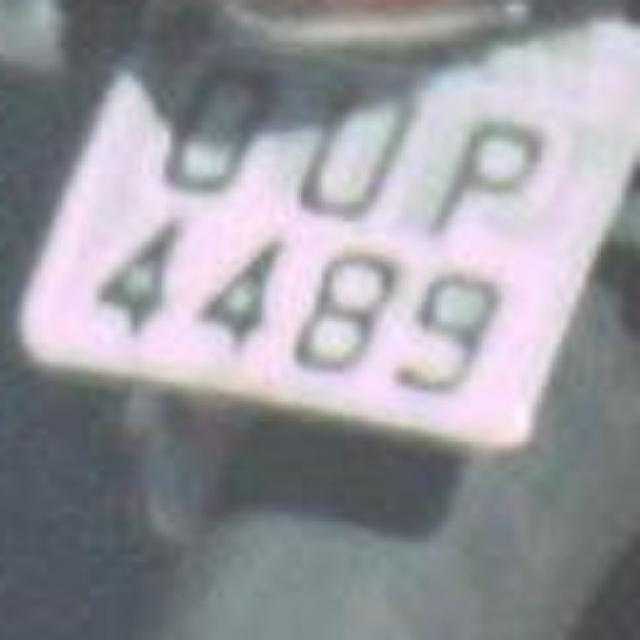4: (164, 200, 308, 368), (72, 180, 208, 348)
8: (272, 212, 412, 392)
9: (376, 245, 512, 420)
O: (129, 45, 296, 200)
P: (412, 96, 568, 264)
U: (260, 68, 448, 228)
